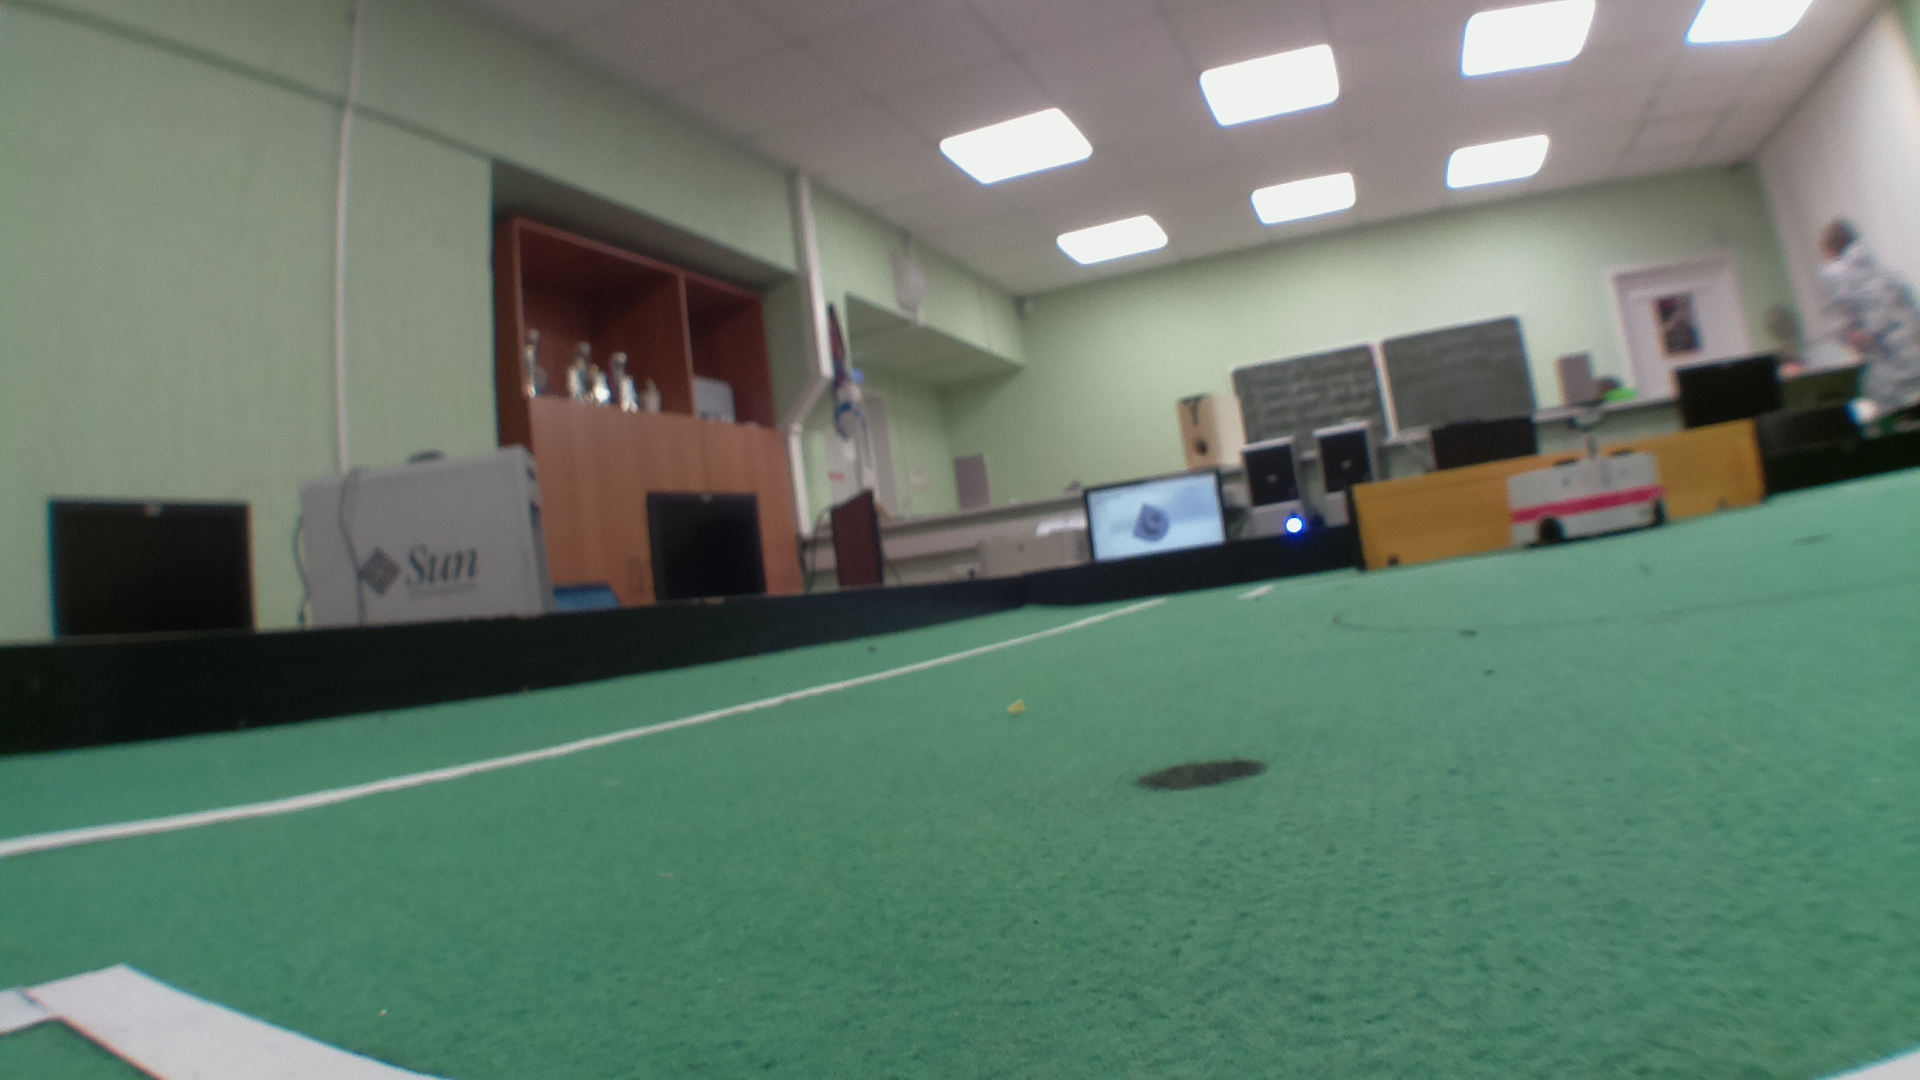YellowGoal: (1358, 450, 1764, 531)
